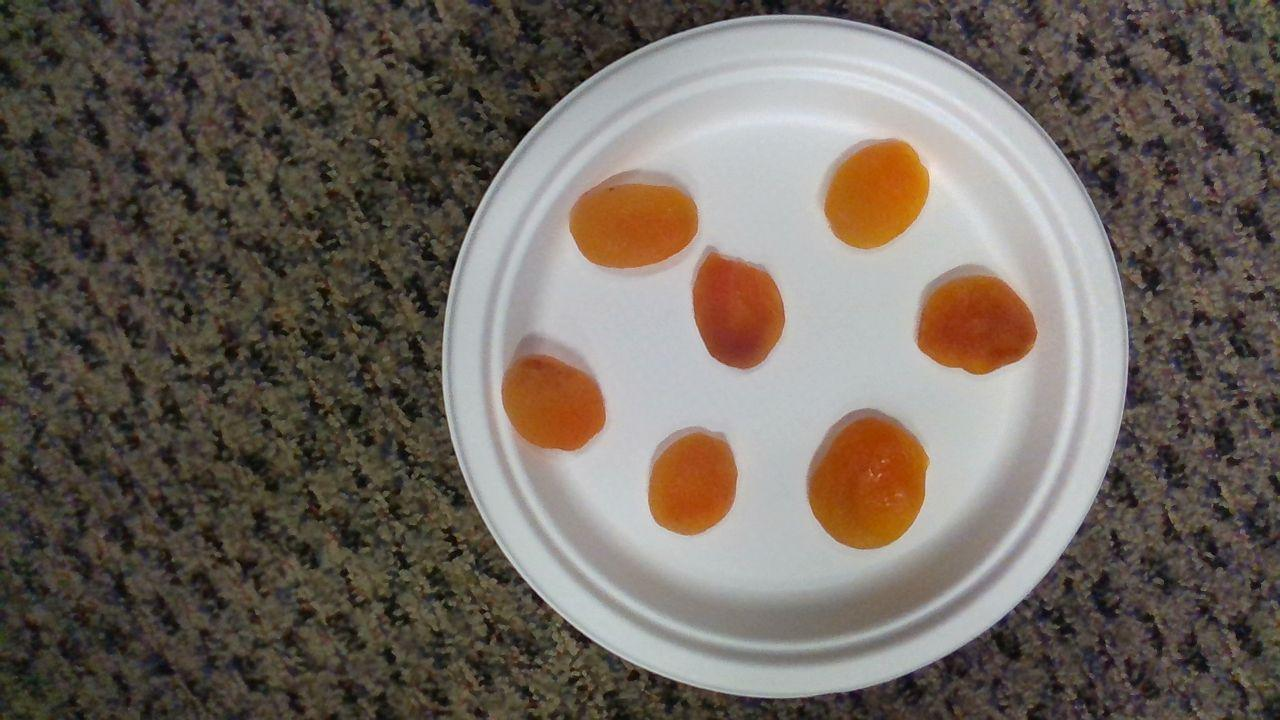apricot: (810, 421, 929, 549), (918, 276, 1036, 375), (824, 142, 929, 249), (571, 184, 698, 269), (694, 254, 785, 369), (501, 355, 606, 451), (648, 435, 737, 534)
plate: (441, 14, 1128, 695)
